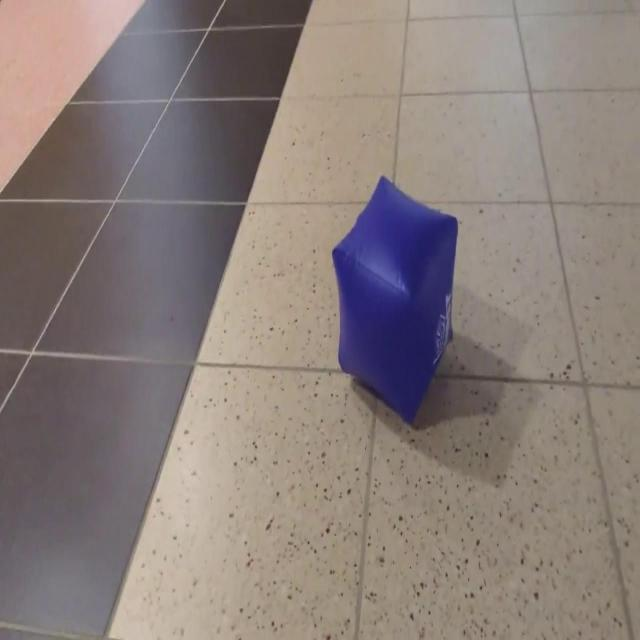frc_cube: (331, 177, 455, 417)
